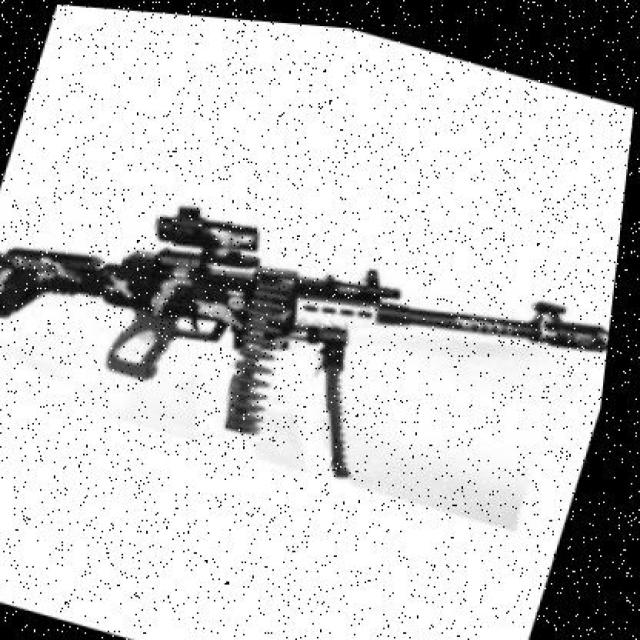weapon: (0, 204, 608, 479)
